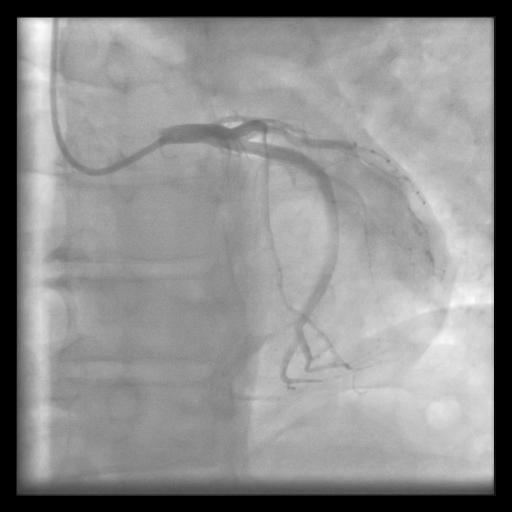Stenosis: (258, 130, 271, 164)
